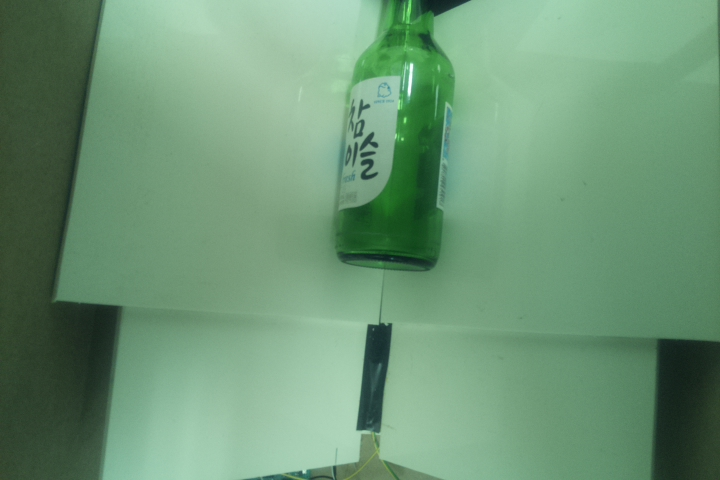soju: (332, 1, 457, 278)
